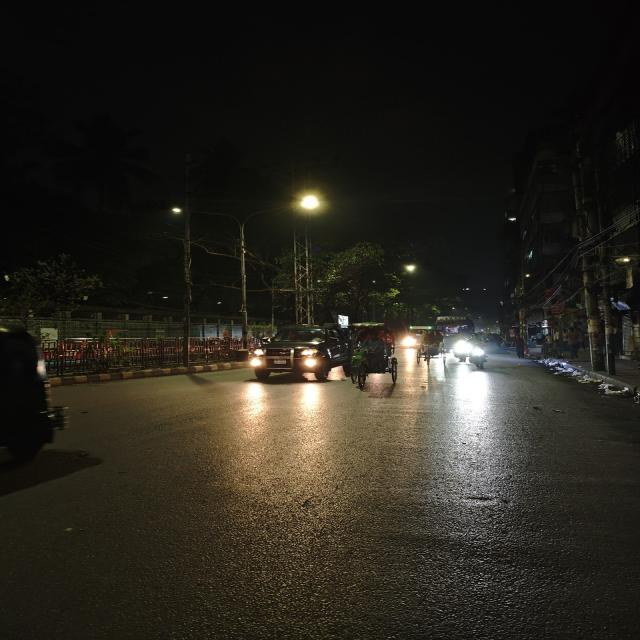bus: (435, 317, 472, 335)
car: (242, 323, 349, 390)
motorcycle: (459, 338, 493, 372)
pedestrian: (512, 337, 528, 362)
rickshaw: (346, 321, 402, 391), (413, 330, 449, 364)
truck: (243, 323, 351, 384)
